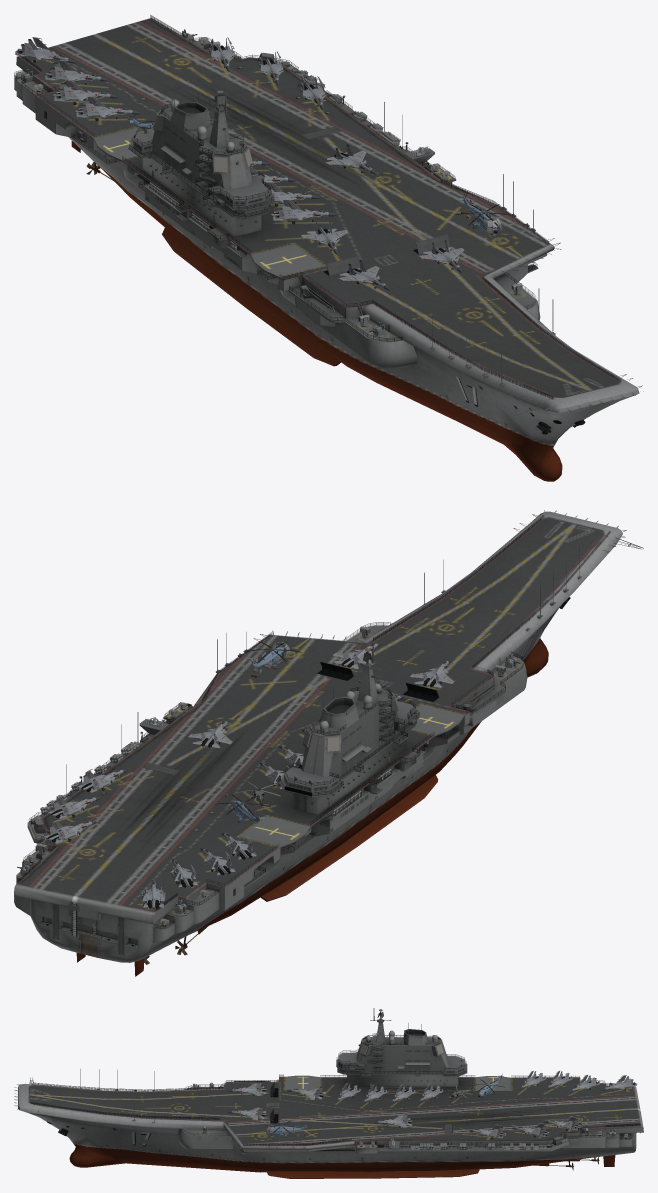
The model's file is shipModelData-shandong.glb.
3 views of the same model, one above another, from view 1: azimuth 30°, elevation 25°; view 2: azimuth 150°, elevation 25°; view 3: azimuth 270°, elevation 25° (orthographic). The views are drawn at different scales.
Parts seen in each view (by area): view 1: shandongjian17-yy3d-0003, shandongjian17-yy3d-0004; view 2: shandongjian17-yy3d-0003, shandongjian17-yy3d-0004; view 3: shandongjian17-yy3d-0003, shandongjian17-yy3d-0004, shandongjian17-yy3d-0302.
Part boxes in pixels (bbox=[...]): shandongjian17-yy3d-0003: bbox=[14, 18, 643, 481]; shandongjian17-yy3d-0004: bbox=[14, 15, 621, 399]; shandongjian17-yy3d-0003: bbox=[14, 510, 643, 976]; shandongjian17-yy3d-0004: bbox=[18, 515, 610, 947]; shandongjian17-yy3d-0003: bbox=[14, 1008, 643, 1178]; shandongjian17-yy3d-0004: bbox=[29, 1033, 640, 1152]; shandongjian17-yy3d-0302: bbox=[264, 1120, 308, 1137].
Bounding box in the file's own units: 89.42 × 77.61 × 318.
Materials: 15 (13 with a texture image).
